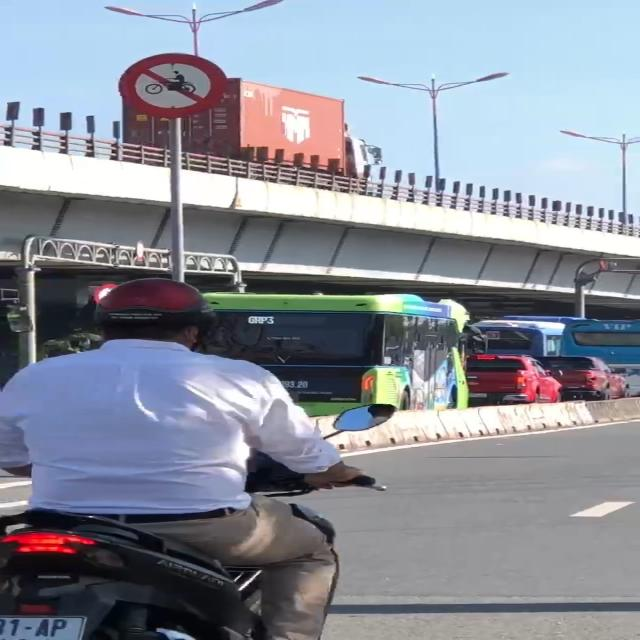Bien bao cam xe may: (116, 34, 241, 119)
